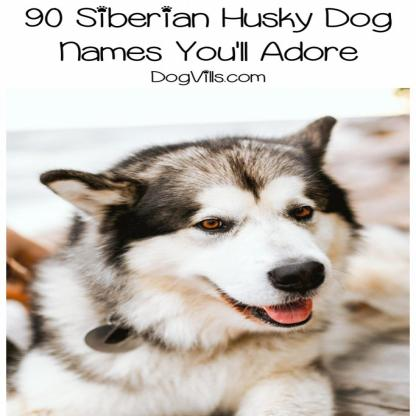dog: (8, 117, 337, 416)
